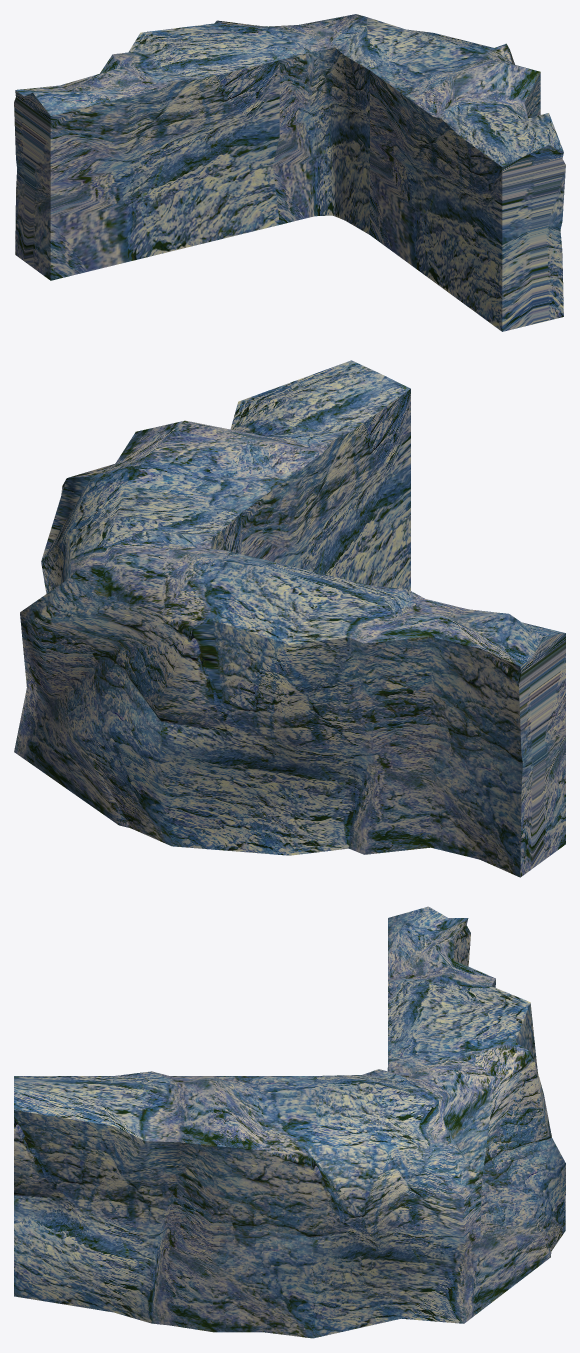
The model's file is rockWall_corner_convex.fbx.
The picture shows the model from 3 angles, top to bottom: view 1: azimuth 30°, elevation 25°; view 2: azimuth 150°, elevation 25°; view 3: azimuth 270°, elevation 25°; orthographic projection. The views are drawn at different scales.
Parts seen in each view (by area): view 1: polySurface1; view 2: polySurface1; view 3: polySurface1.
Boxes of the visible parts, box(x1,y1,x2,y2) form: polySurface1: box(14, 14, 565, 331); polySurface1: box(14, 360, 565, 877); polySurface1: box(14, 906, 565, 1338).
Size of the model in its own units: 29.77 by 12.3 by 29.53.
